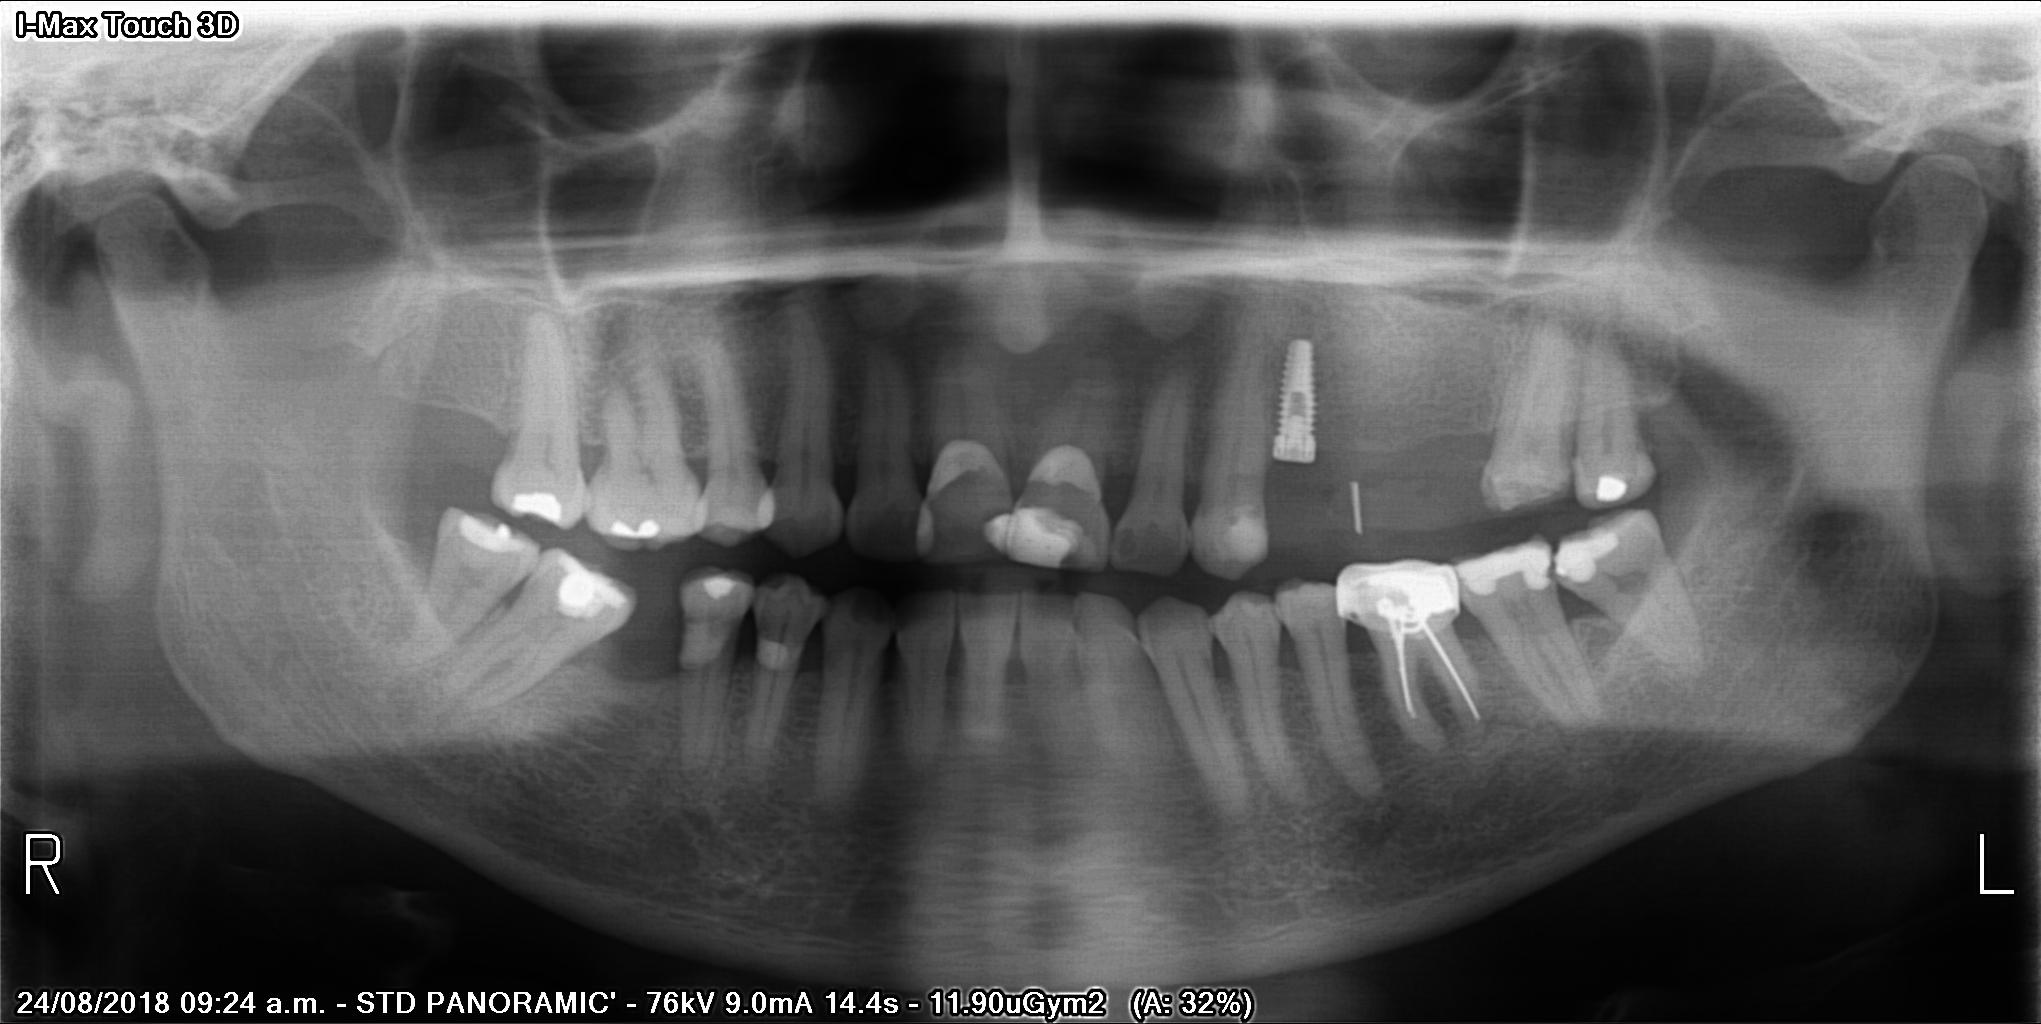Çürük: (1330, 547, 1474, 641), (550, 547, 638, 643), (1462, 537, 1550, 612), (1556, 518, 1628, 595), (976, 512, 1078, 564), (443, 502, 530, 562), (607, 494, 667, 556), (506, 480, 568, 526), (698, 564, 741, 614), (1586, 462, 1632, 504), (752, 480, 783, 540)
Çürük Bölgesi: (1058, 543, 1087, 581), (1118, 525, 1136, 563), (989, 502, 1013, 518)
